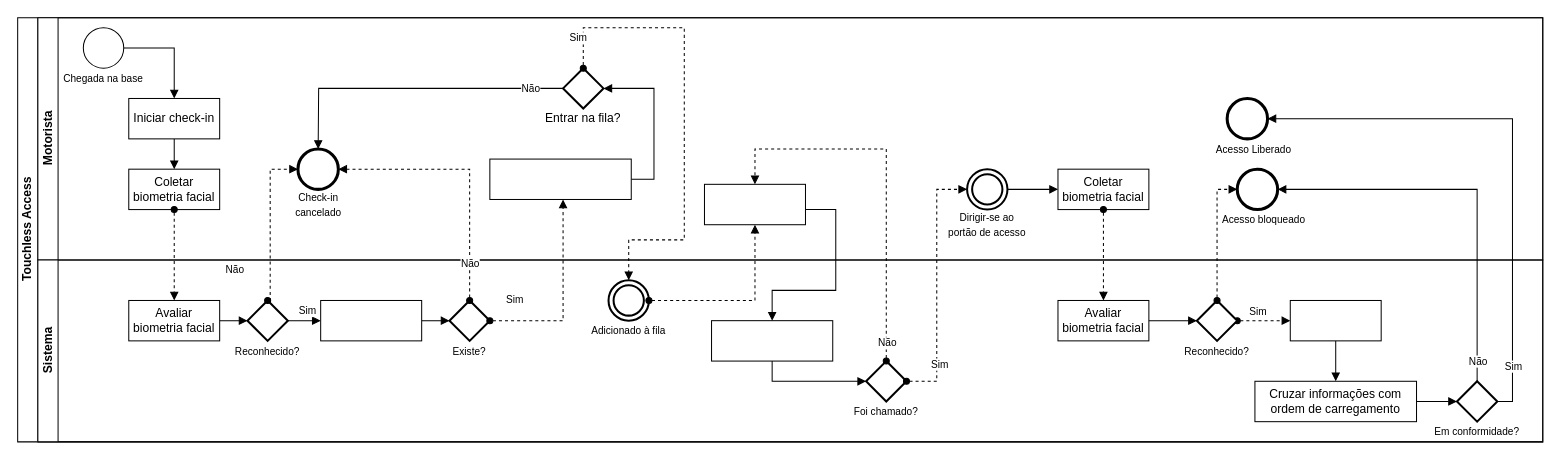
Image size: 1560x460. Some labels were removed from this diagram. The shapes that lost their labels are listed below. From the top down, each one's box as (x1, y1, x2, y2) in pixels, then its label:
(489, 158, 631, 199): Confirmar dados da ordem de carregamento
(703, 183, 805, 225): Aguardar a vez para acesso
(320, 299, 422, 341): Buscar ordem de carregamento
(1289, 299, 1381, 341): Leitura de placa
(711, 320, 833, 361): Chamar o próximo
